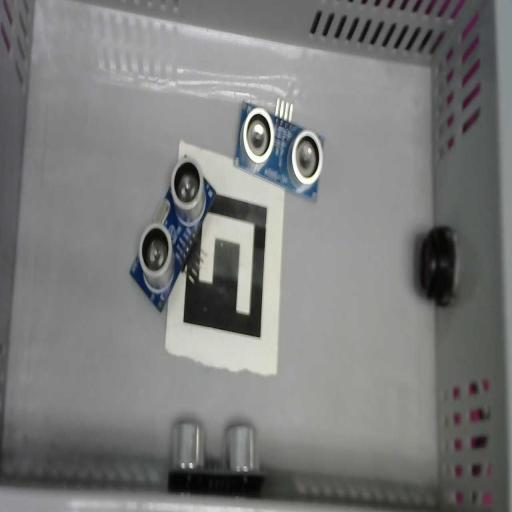QR: (165, 140, 285, 376)
ultrasonic_hc-sr04: (130, 153, 216, 312), (234, 98, 326, 202), (168, 422, 266, 498)
